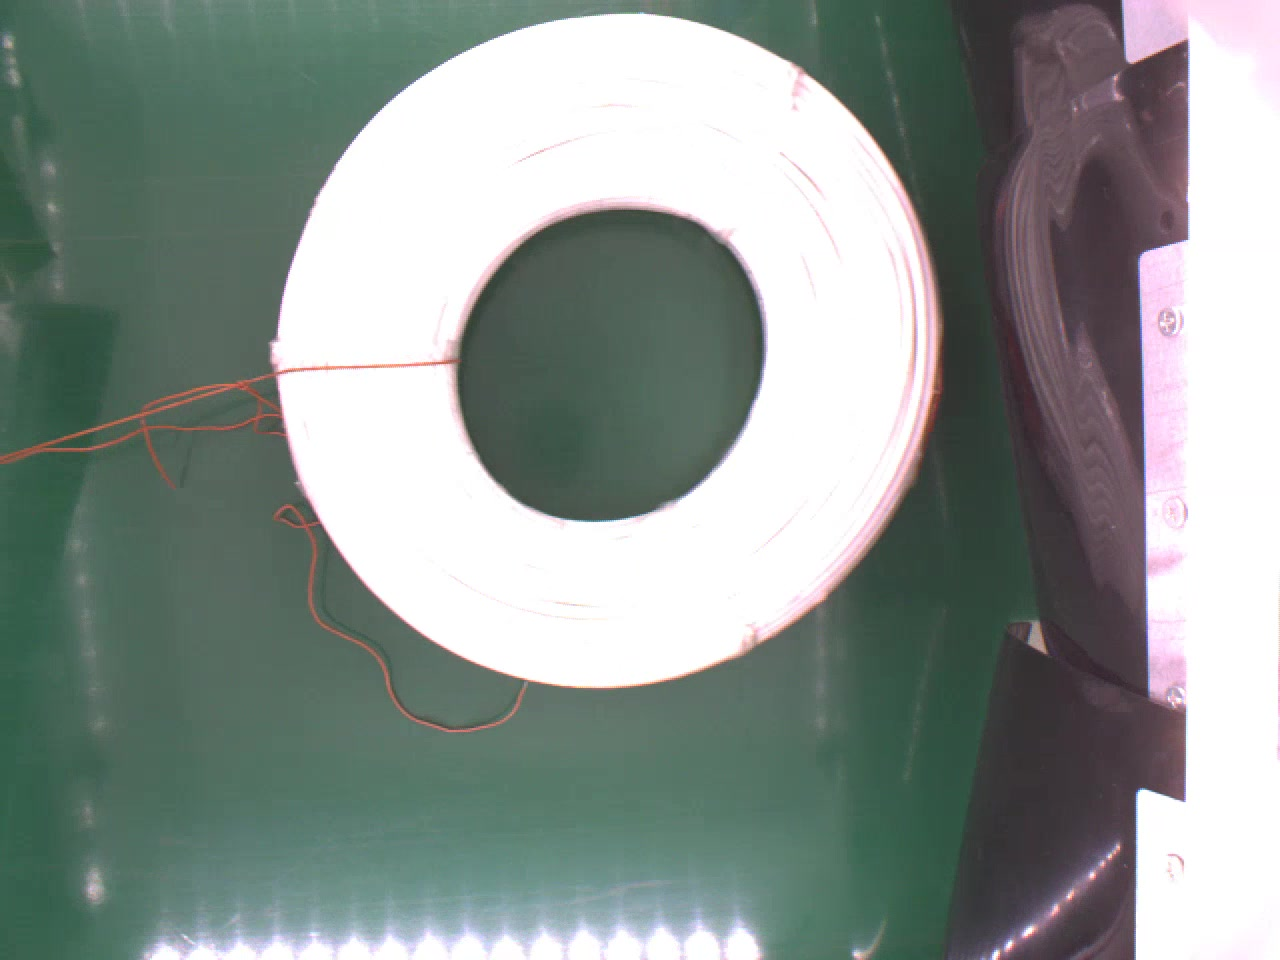white: (270, 14, 949, 685)
